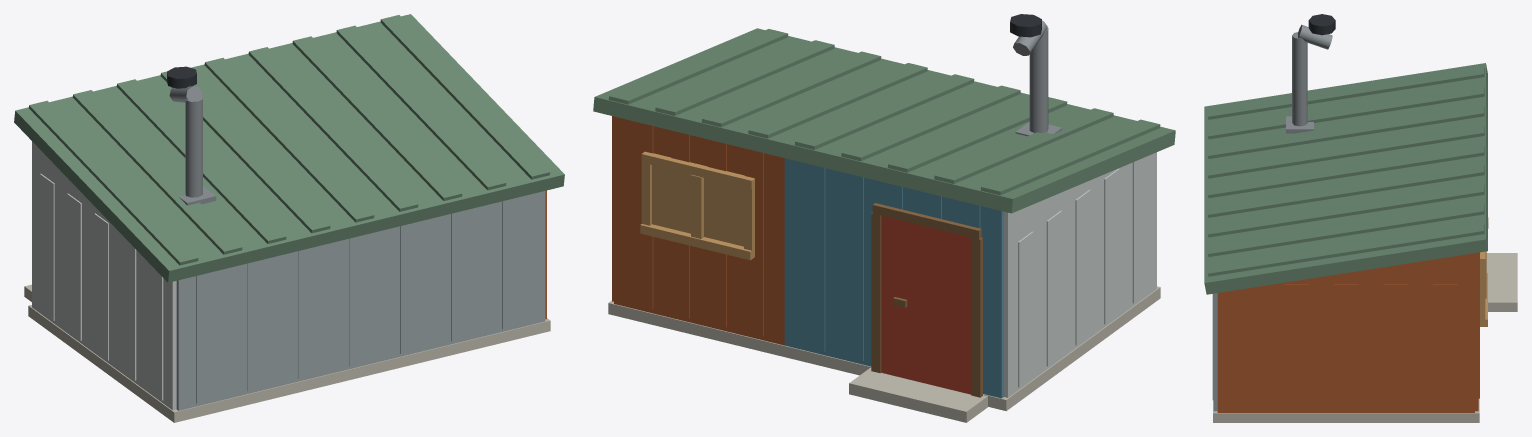
File: cabane-tole-b.glb
The picture shows the model from 3 angles, left to right: view 1: azimuth 30°, elevation 25°; view 2: azimuth 150°, elevation 25°; view 3: azimuth 270°, elevation 25°; orthographic projection. The views are drawn at different scales.
Parts seen in each view (by area): view 1: toit-dalle, mur-arriere, mur-gauche, socle, toit-nerv-0, toit-nerv-4, toit-nerv-7, toit-nerv-5, toit-nerv-6, toit-nerv-8, toit-nerv-1, toit-nerv-2 (+16 smaller); view 2: toit-dalle, facade-pan-a, porte-panneau, facade-pan-b, mur-gauche, socle, fenetre-vitre, nerv-a-4, seuil, nerv-a-3, toit-nerv-5, toit-nerv-3 (+27 smaller); view 3: toit-dalle, mur-droit, toit-nerv-4, toit-nerv-2, toit-nerv-6, toit-nerv-7, toit-nerv-8, toit-nerv-5, toit-nerv-3, nerv-d-1, nerv-d-4, nerv-d-0 (+13 smaller).
Boxes of the visible parts, box(x1,y1,x2,y2) form: toit-dalle: box(14, 14, 564, 282); mur-arriere: box(176, 191, 545, 410); mur-gauche: box(32, 164, 176, 410); socle: box(28, 305, 550, 422); toit-nerv-0: box(28, 100, 198, 265); toit-nerv-4: box(204, 57, 374, 222); toit-nerv-7: box(336, 25, 506, 190); toit-nerv-5: box(248, 47, 418, 211); toit-nerv-6: box(292, 36, 462, 200); toit-nerv-8: box(380, 15, 550, 179); toit-nerv-1: box(72, 90, 242, 254); toit-nerv-2: box(116, 79, 286, 243); toit-dalle: box(593, 28, 1175, 213); facade-pan-a: box(784, 158, 1003, 398); porte-panneau: box(881, 215, 971, 394); facade-pan-b: box(614, 116, 784, 345); mur-gauche: box(1004, 152, 1156, 397); socle: box(608, 286, 1160, 411); fenetre-vitre: box(652, 165, 743, 246); nerv-a-4: box(805, 163, 825, 351); seuil: box(849, 367, 987, 422); nerv-a-3: box(844, 172, 863, 360); toit-nerv-5: box(748, 63, 927, 138); toit-nerv-3: box(841, 85, 1020, 161); toit-dalle: box(1204, 63, 1487, 294); mur-droit: box(1217, 281, 1474, 412); toit-nerv-4: box(1208, 144, 1484, 198); toit-nerv-2: box(1208, 105, 1484, 158); toit-nerv-6: box(1208, 183, 1484, 237); toit-nerv-7: box(1208, 203, 1484, 256); toit-nerv-8: box(1208, 222, 1484, 276); toit-nerv-5: box(1208, 164, 1484, 217); toit-nerv-3: box(1208, 124, 1484, 178); nerv-d-1: box(1383, 284, 1408, 410); nerv-d-4: box(1234, 286, 1259, 410); nerv-d-0: box(1433, 284, 1457, 410).
Bounding box in the file's own units: 0.2 × 0.14 × 0.15.
